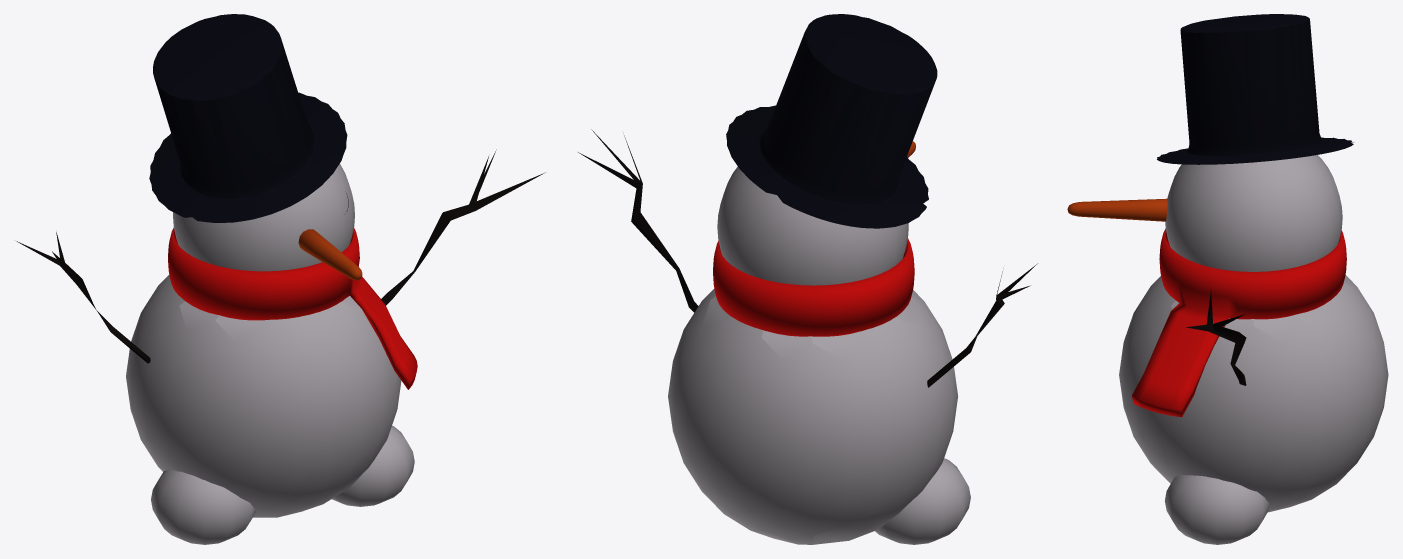
File: Snow Man.fbx
3 views of the same model, side by side, from view 1: azimuth 30°, elevation 25°; view 2: azimuth 150°, elevation 25°; view 3: azimuth 270°, elevation 25° (orthographic). The views are drawn at different scales.
Visible parts, largest first — view 1: Snow Man; view 2: Snow Man; view 3: Snow Man.
Boxes of the visible parts, <box> form: Snow Man: <box>16,14,545,544</box>; Snow Man: <box>578,14,1037,544</box>; Snow Man: <box>1067,14,1388,544</box>.
Size of the model in its own units: 150 by 146 by 89.9.
